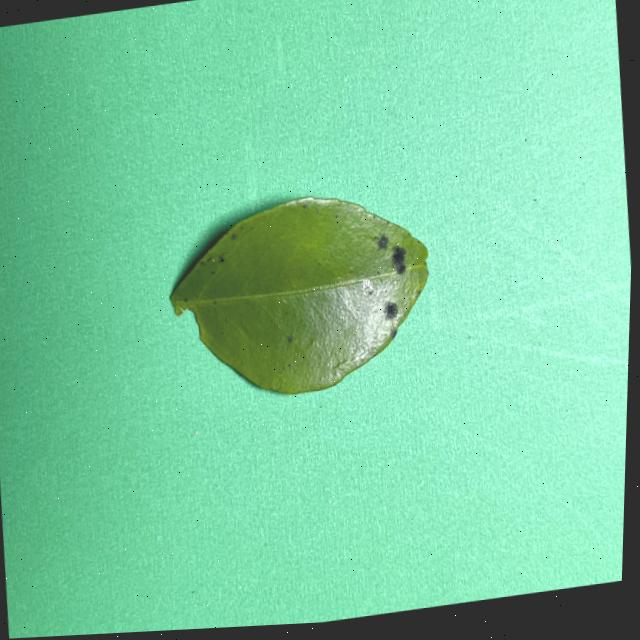sooty_mold: (170, 197, 427, 393)
